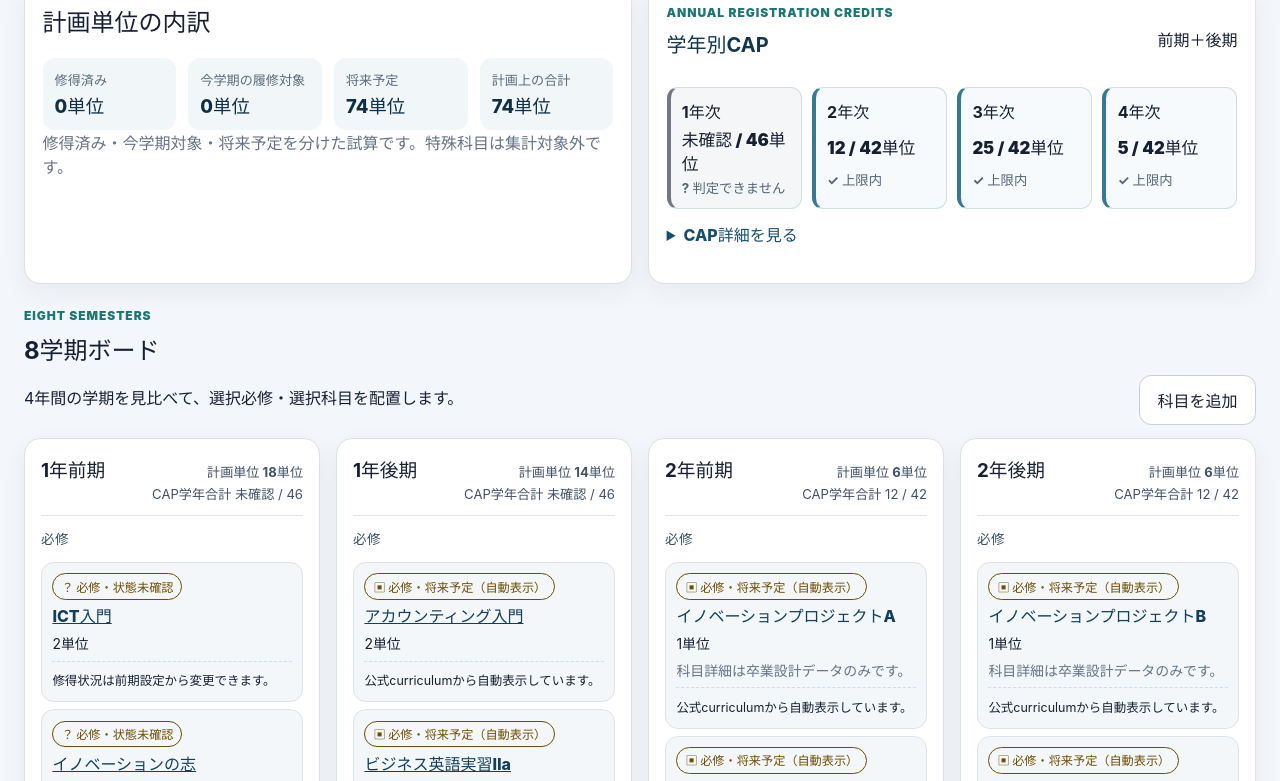
Test: Phase 11 graduation plan UI › 検索して科目を選び学期へ追加する
(page scrolled)
Click the button "科目を追加": (1197, 400) [1139, 376, 1256, 426]
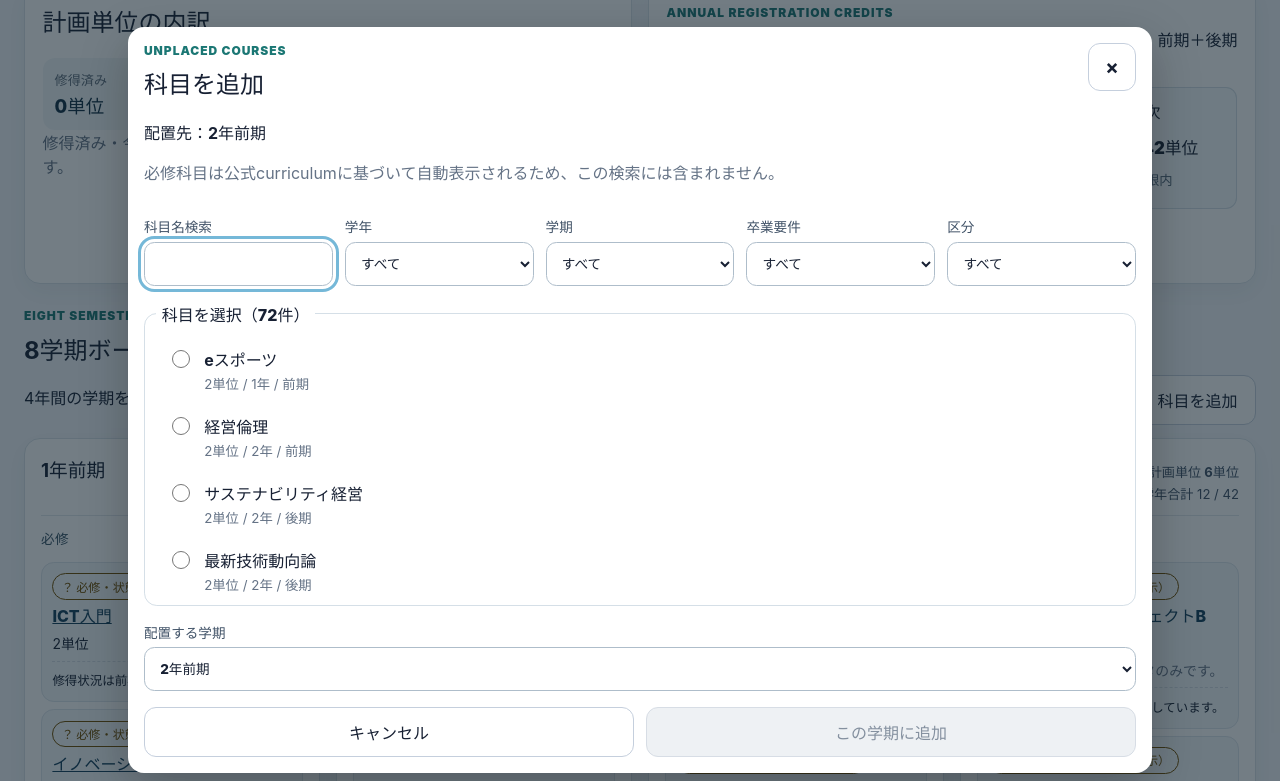
In the search field labelled "科目名検索": (238, 264) [144, 242, 333, 286], type "データサイエンス基礎"
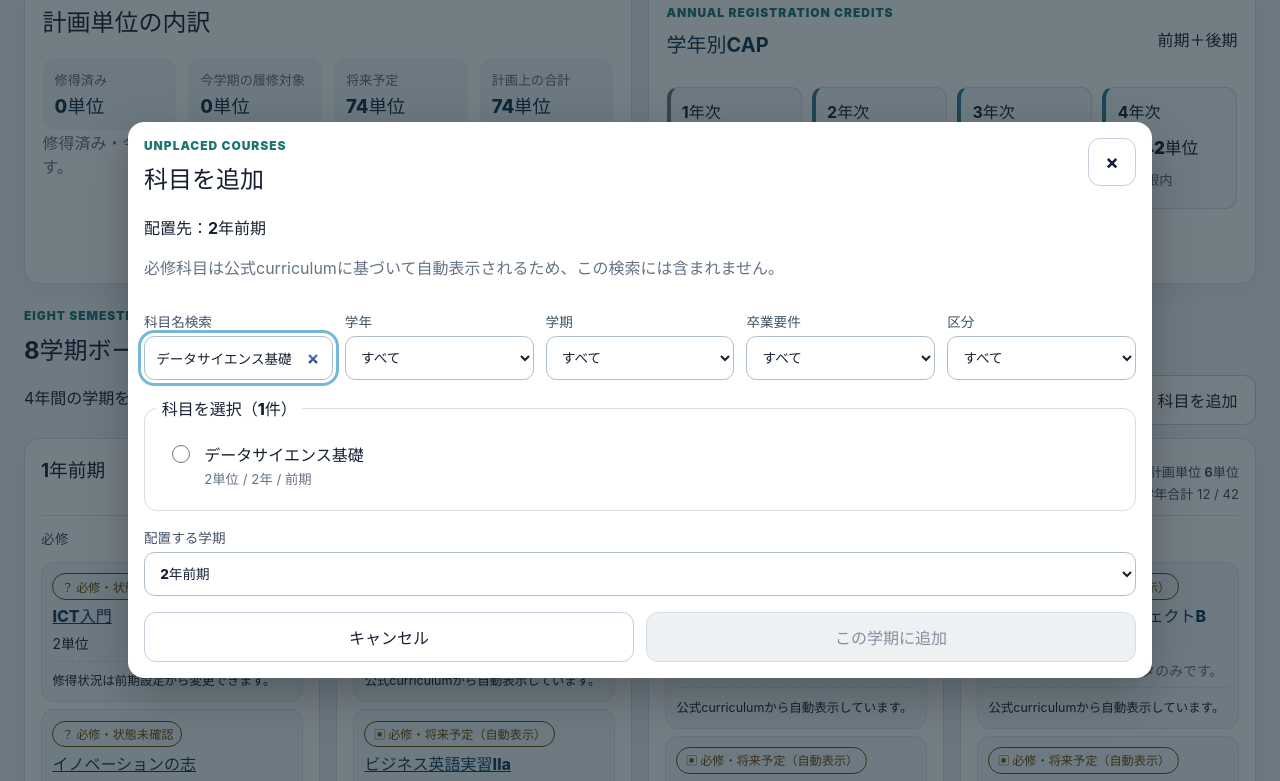
Click the radio button labelled "データサイエンス基礎 2単位 / 2年 / 前期": (181, 454) [172, 445, 190, 463]
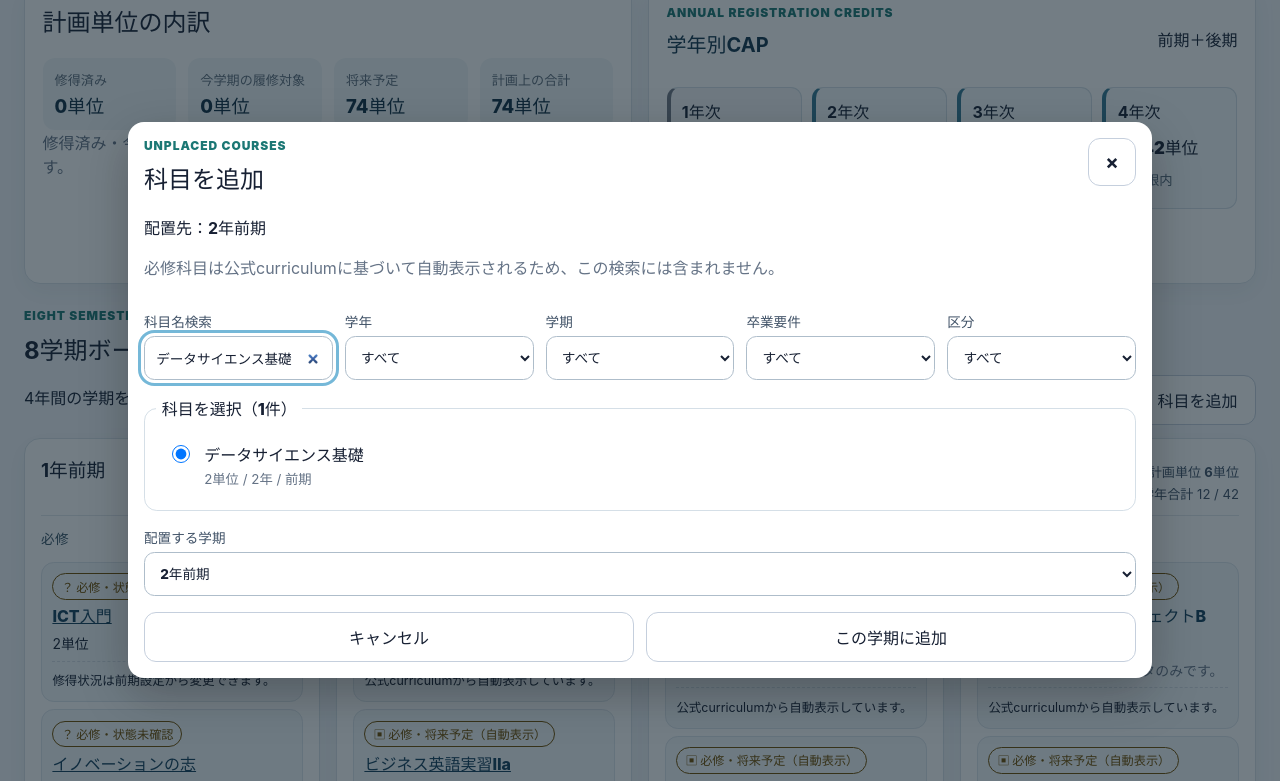
Select "2年前期" in the dropdown labelled "配置する学期": (640, 574) [144, 552, 1136, 596]
Click the button "この学期に追加": (891, 637) [646, 612, 1136, 662]
(page scrolled)
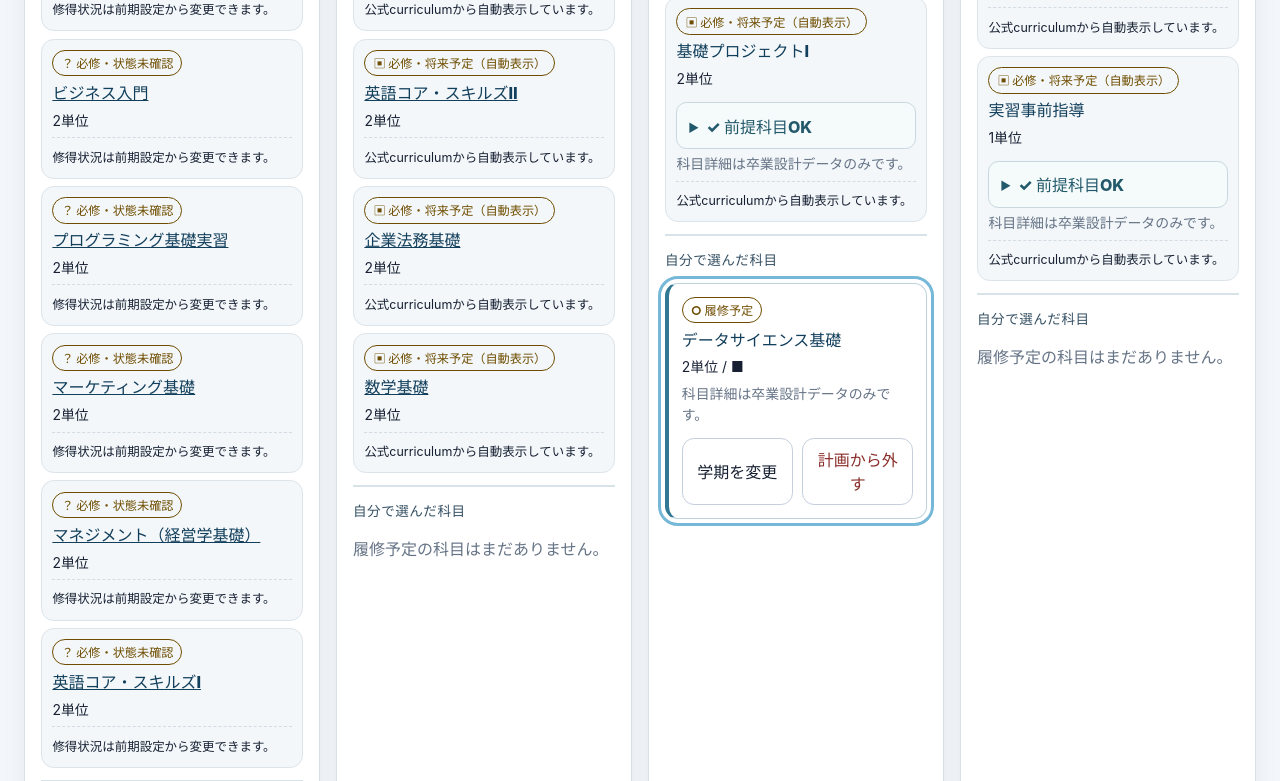
Now the text "データサイエンス基礎" is shown, box [682, 330, 841, 350]
Now the text "○ 履修予定" is shown, box [682, 297, 762, 323]
